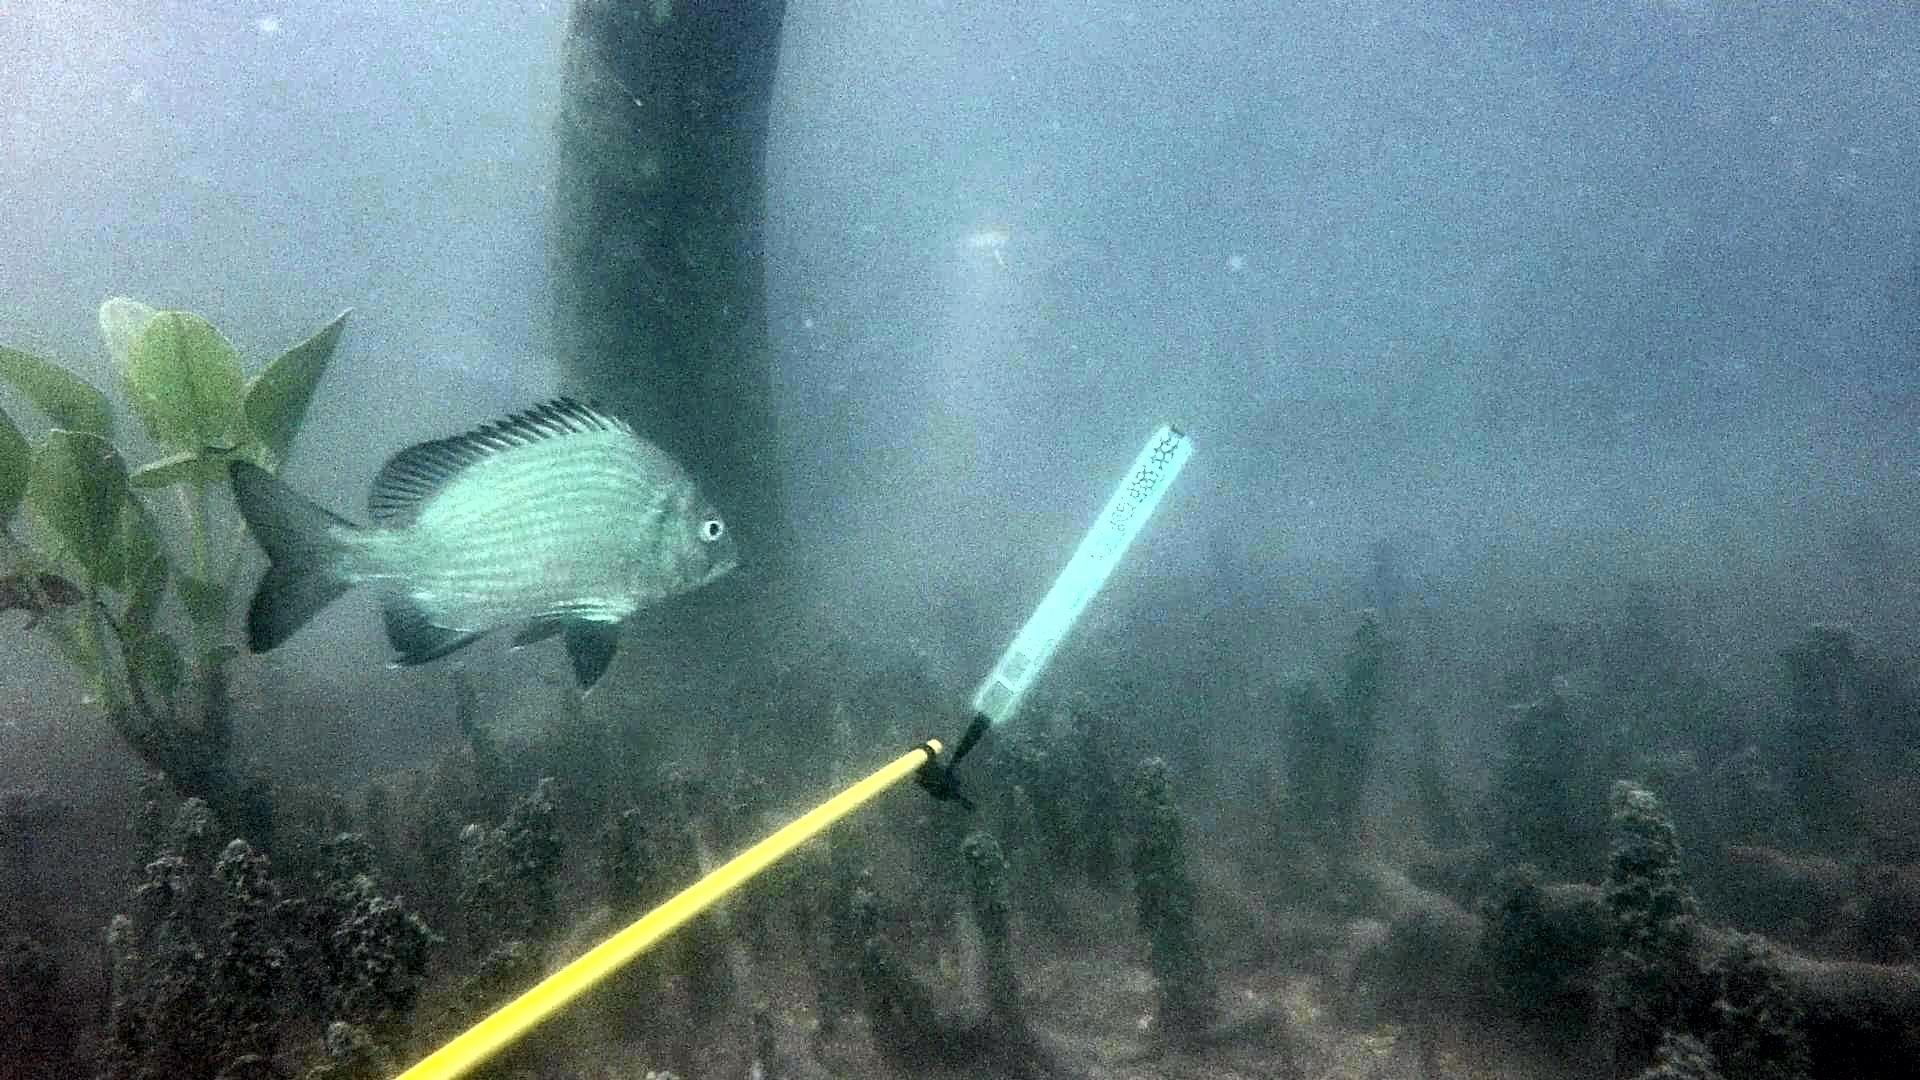acanthopagrus palmaris: (214, 384, 757, 713)
